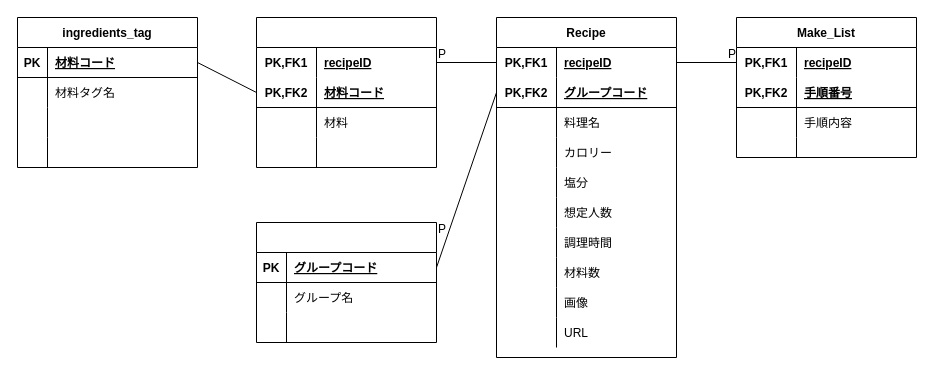
The diagram is 934 pixels wide and 375 high, and some of its shapes have lost their labels. Each missing label, with the box of its shape:
groups_tag: (256, 222, 436, 342)
ingredients: (256, 16, 436, 168)
